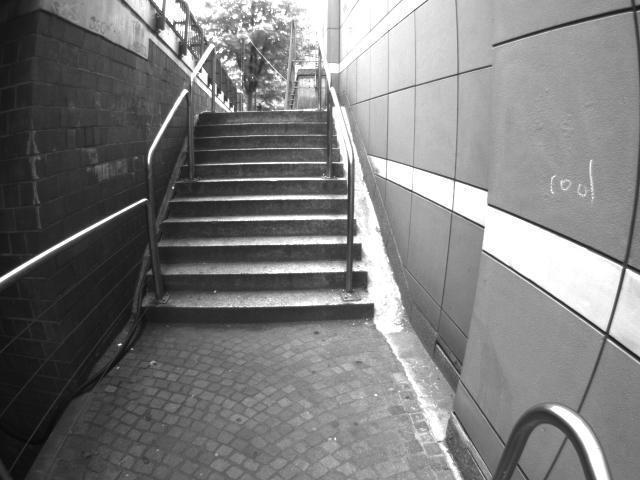Escaleras: (145, 104, 368, 330), (0, 428, 633, 479)
